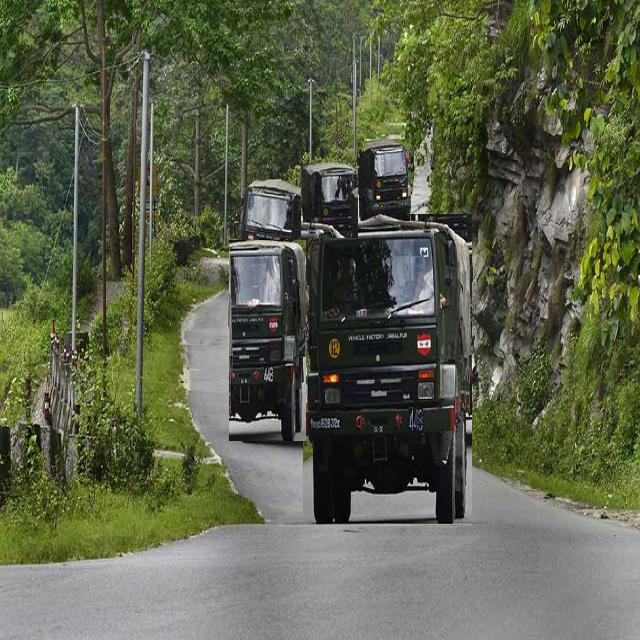truck: (303, 214, 471, 525), (229, 240, 306, 441), (358, 140, 411, 221), (301, 163, 358, 238)
